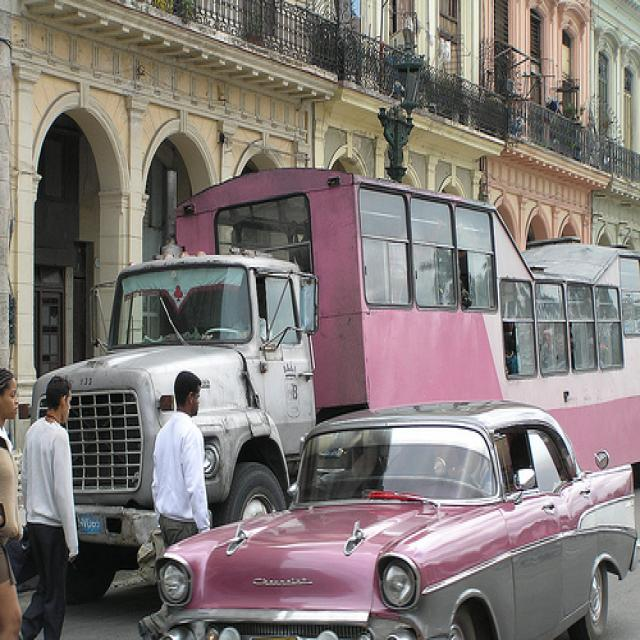light_vehicle: (152, 399, 639, 638)
